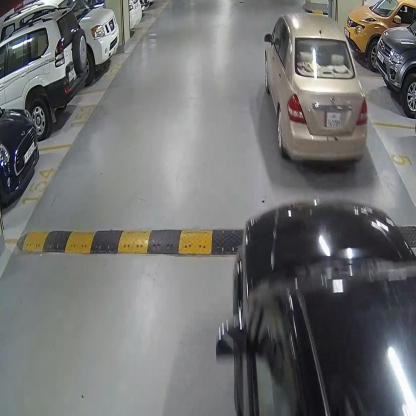np: (326, 111, 341, 128)
